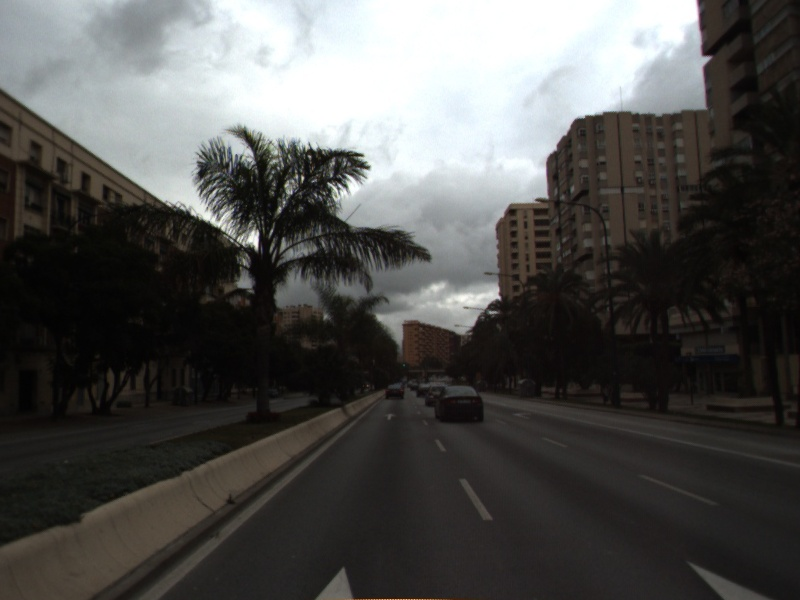RIGHT: (510, 410, 533, 421)
STRAIGHT: (382, 412, 399, 422)
